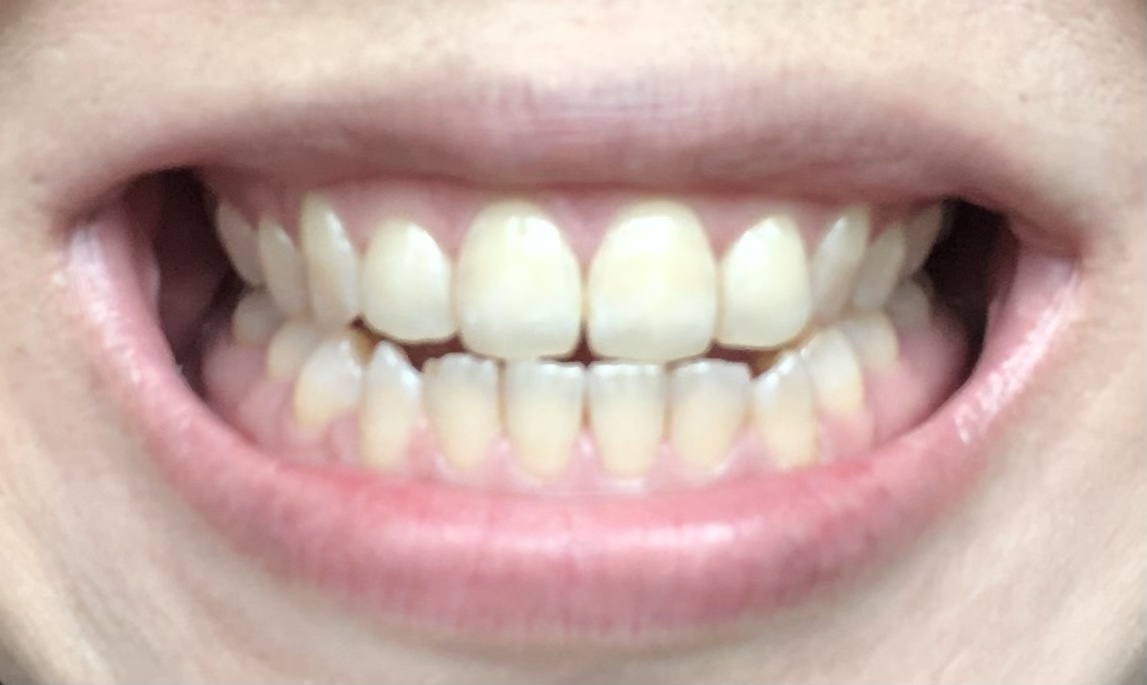teeth: (587, 195, 718, 360), (457, 199, 583, 357), (717, 217, 811, 349), (360, 213, 457, 339), (299, 195, 361, 335), (591, 361, 665, 477), (424, 357, 496, 470), (507, 365, 580, 475), (358, 341, 422, 466), (674, 361, 751, 461), (814, 199, 875, 319), (759, 350, 818, 464), (293, 332, 358, 425), (800, 325, 863, 411), (856, 223, 911, 309), (259, 217, 302, 309), (217, 201, 254, 284)
